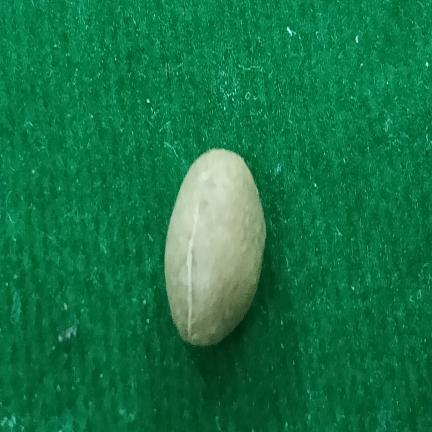cut: (165, 149, 266, 345)
